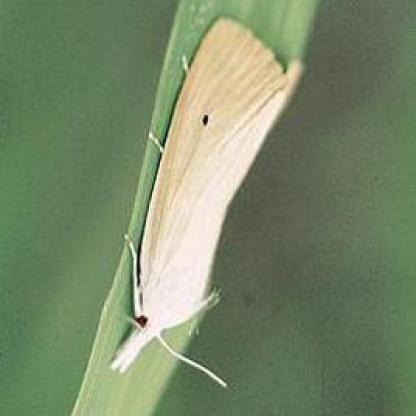stem-borer: (106, 15, 306, 388)
